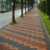zebra: (15, 12, 49, 50)
